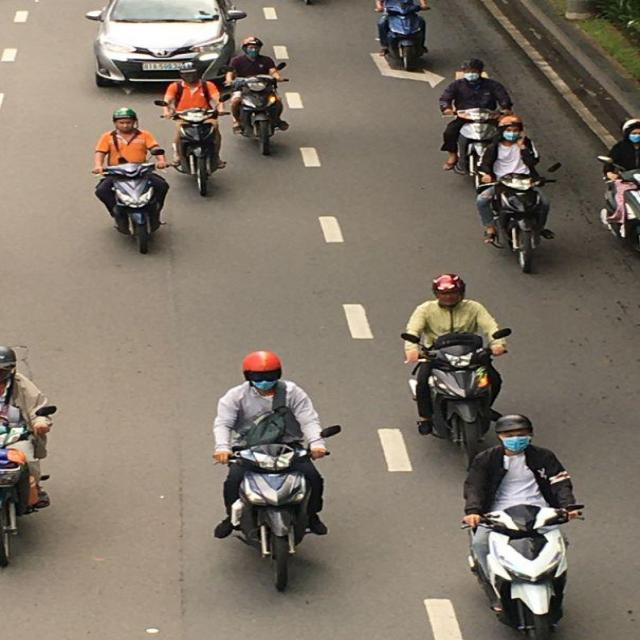car: (89, 1, 238, 92)
motorcycle: (218, 438, 329, 592), (465, 498, 582, 638), (413, 328, 508, 464), (0, 407, 52, 574), (98, 154, 170, 256), (484, 174, 554, 274), (168, 106, 227, 198), (230, 73, 288, 156), (598, 156, 640, 247), (376, 2, 431, 68)
